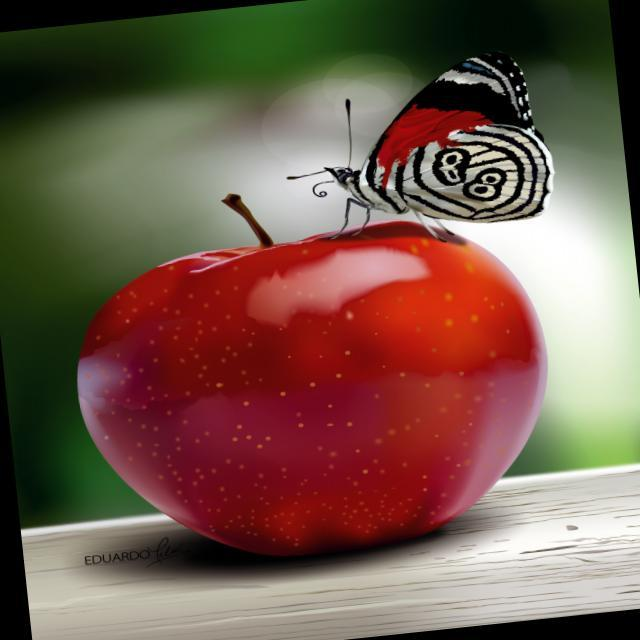APPLE: (66, 203, 566, 575)
